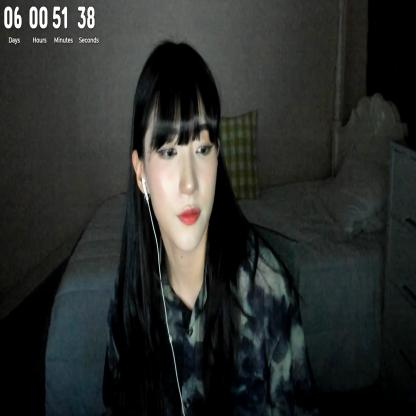streamer: (102, 38, 318, 416)
